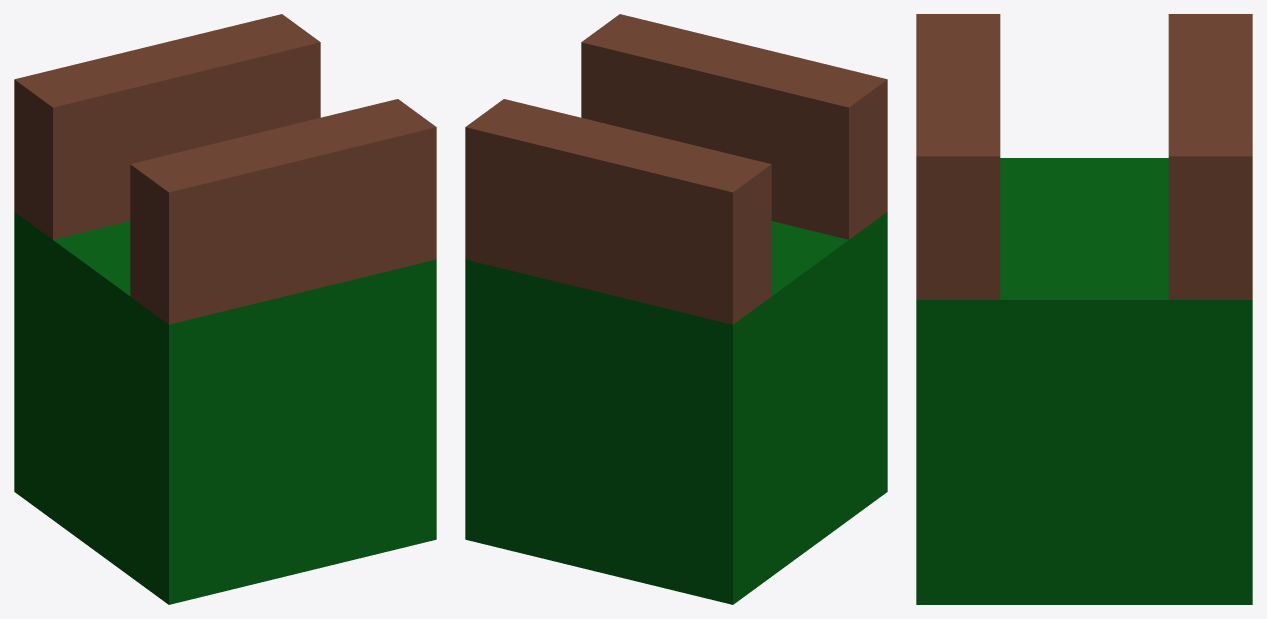
File: DoubleEdge.fbx
The picture shows the model from 3 angles, left to right: view 1: azimuth 30°, elevation 25°; view 2: azimuth 150°, elevation 25°; view 3: azimuth 270°, elevation 25°; orthographic projection. The views are drawn at different scales.
Parts seen in each view (by area): view 1: Cube.002; view 2: Cube.002; view 3: Cube.002.
Part boxes in pixels (bbox=[...]): Cube.002: bbox=[14, 14, 436, 604]; Cube.002: bbox=[465, 14, 887, 604]; Cube.002: bbox=[916, 14, 1252, 604].
Size of the model in its own units: 200 by 294 by 200.
